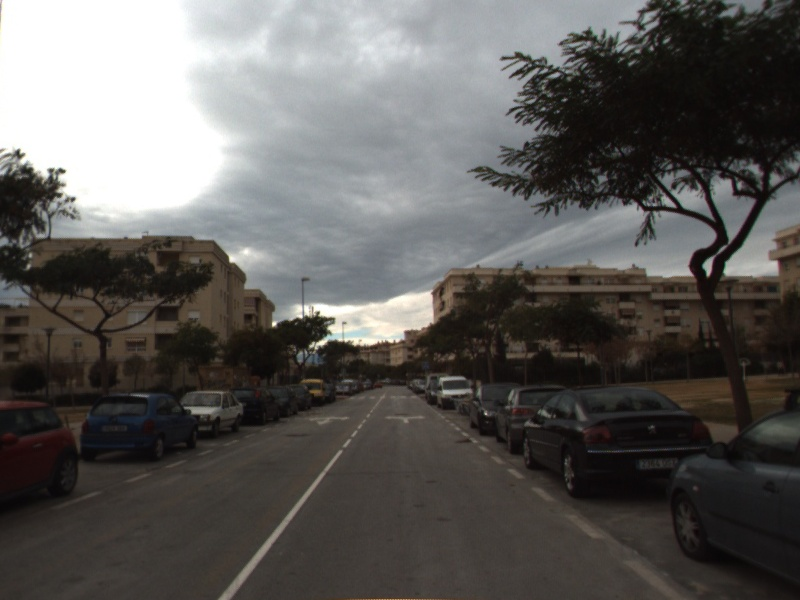LEFT_RIGHT: (383, 411, 428, 425)
